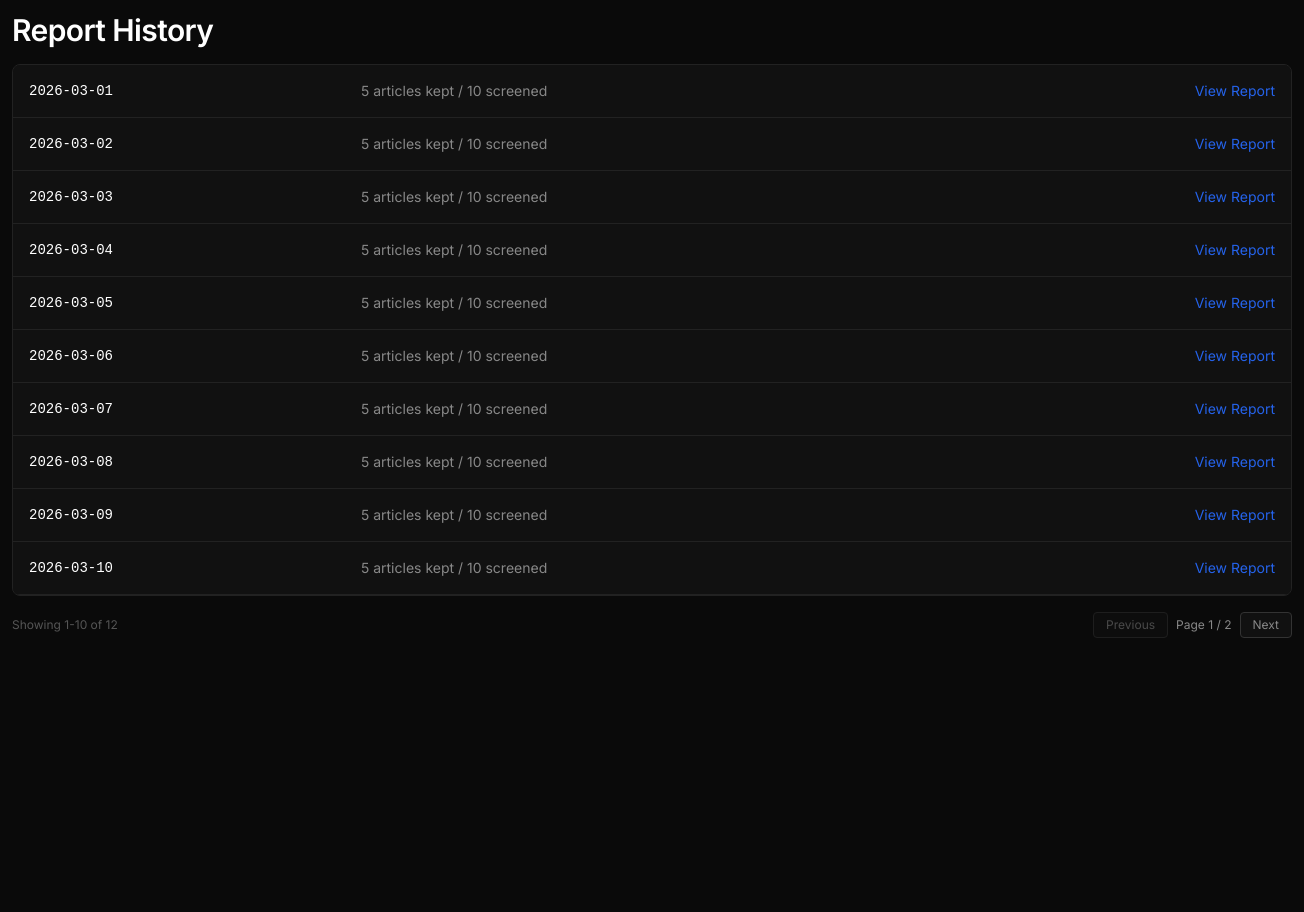
Test: History › paginates report history by 10 items per page
Check: the text "2026-03-01" is shown, box [13,65,345,118]
Check: the text "2026-03-11" is not shown
Click the button "Next" at (1266, 625), box [1240,612,1292,638]
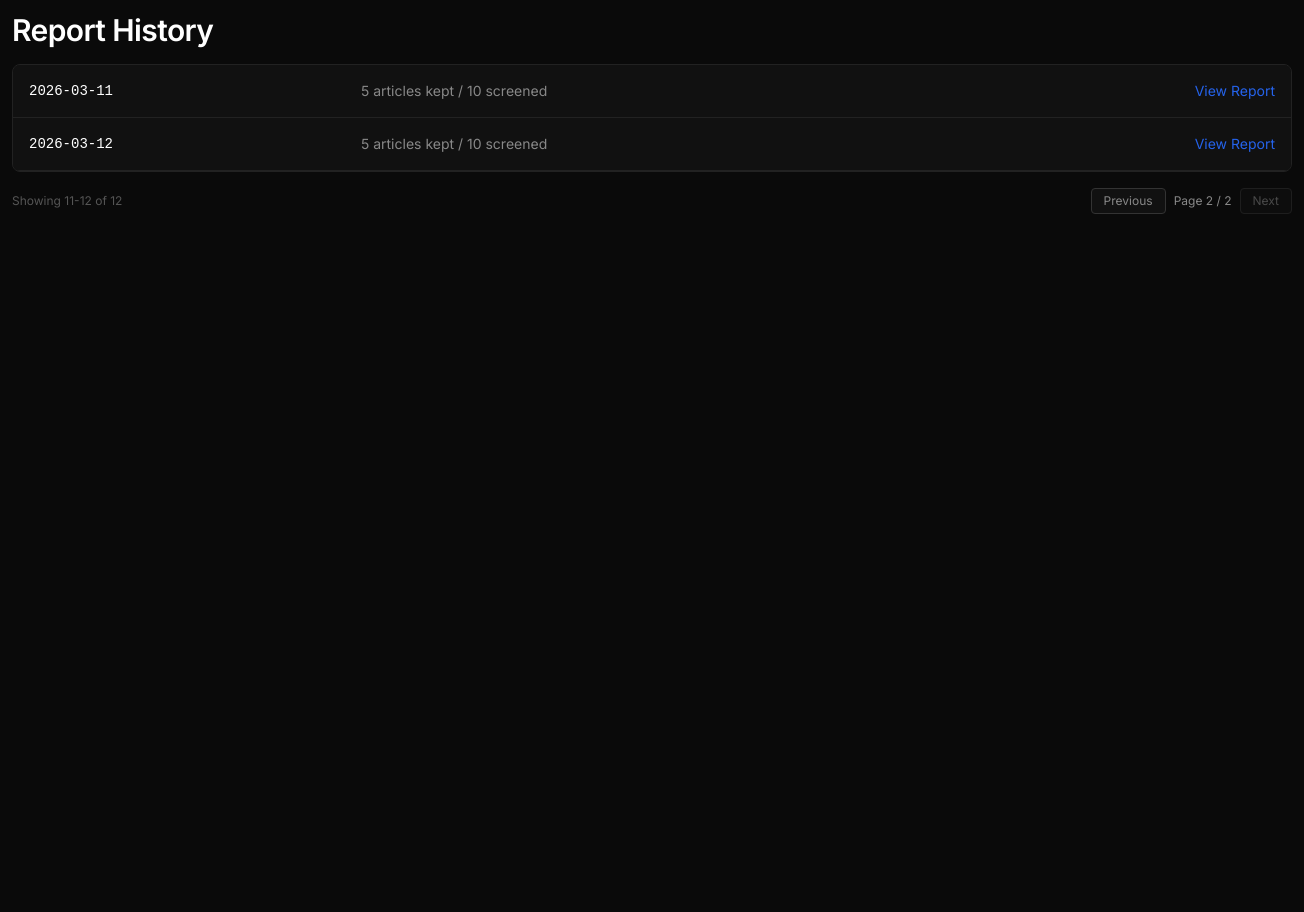
Check: the text "2026-03-11" is shown, box [13,65,345,118]
Check: the text "2026-03-12" is shown, box [13,118,345,170]
Check: the text "2026-03-01" is gone
